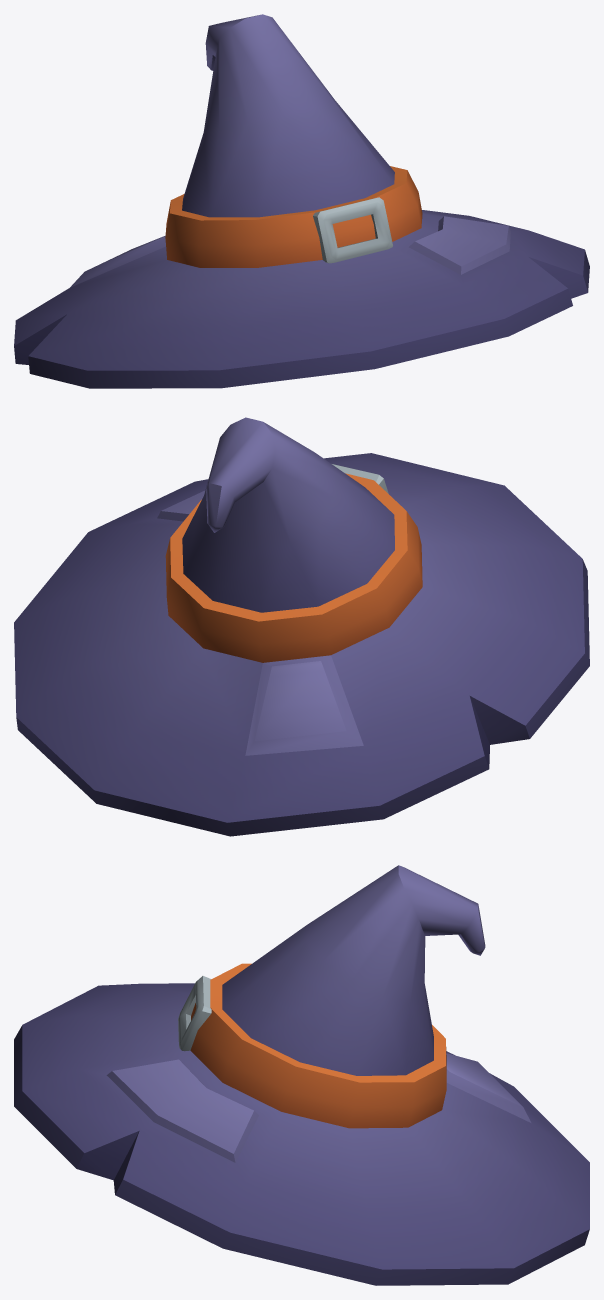
The model's file is kk-Mage_Hat.glb.
3 renders of one model, top to bottom at view 1: azimuth 30°, elevation 25°; view 2: azimuth 150°, elevation 25°; view 3: azimuth 270°, elevation 25°, orthographic. The views are drawn at different scales.
Visible parts, largest first — view 1: Mage_Hat; view 2: Mage_Hat; view 3: Mage_Hat.
Part boxes in pixels (box(x1,y1,x2,y2)): Mage_Hat: box(14, 14, 589, 388); Mage_Hat: box(14, 417, 589, 836); Mage_Hat: box(14, 865, 589, 1285).
Size of the model in its own units: 2.09 by 1.34 by 2.04.
1 material, 1 textured.
